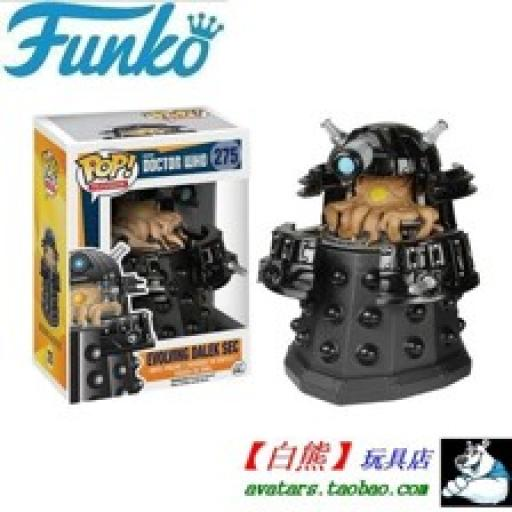dalek: (262, 112, 482, 409), (61, 232, 149, 404)
